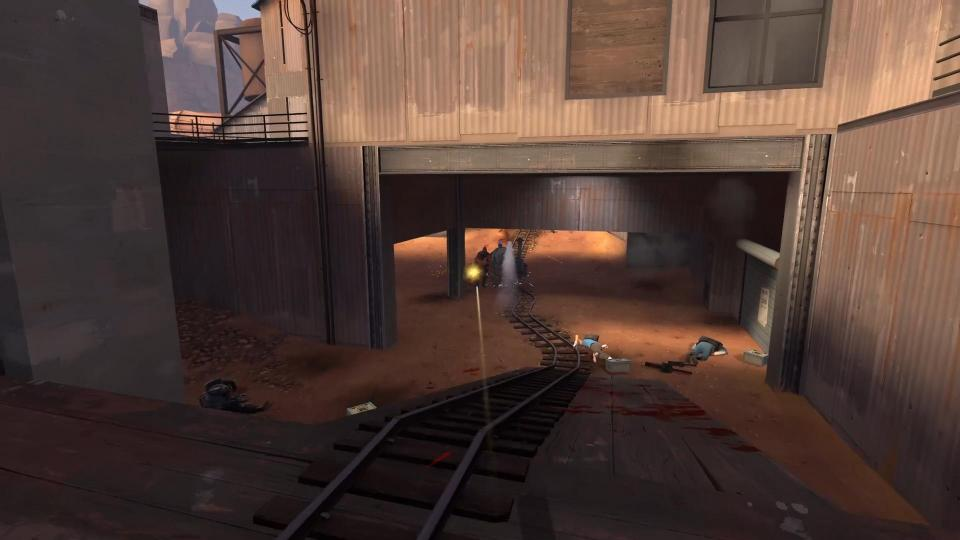Enemy: (685, 335, 728, 365), (573, 333, 613, 362), (468, 246, 492, 288)
